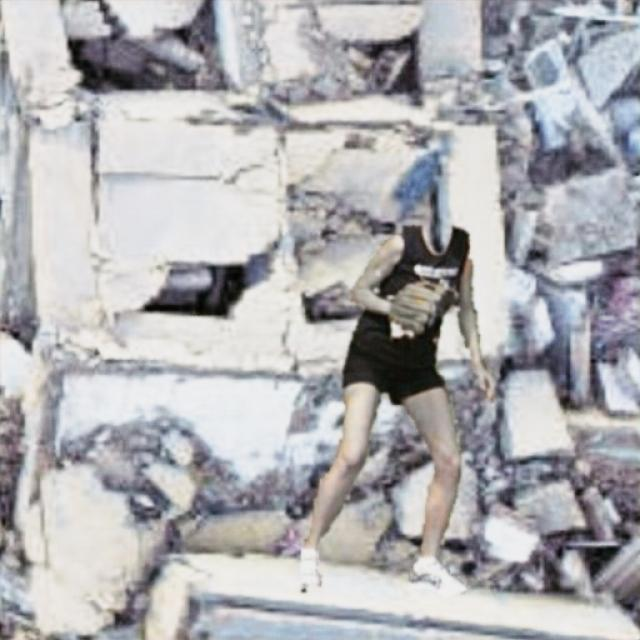Person in Rubble: (302, 225, 492, 596)
